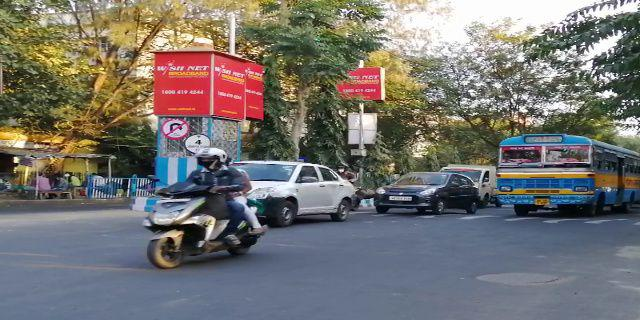Bus: (496, 131, 640, 222)
Car: (229, 158, 357, 231), (371, 167, 484, 221)
Motorbike: (138, 143, 263, 272)
